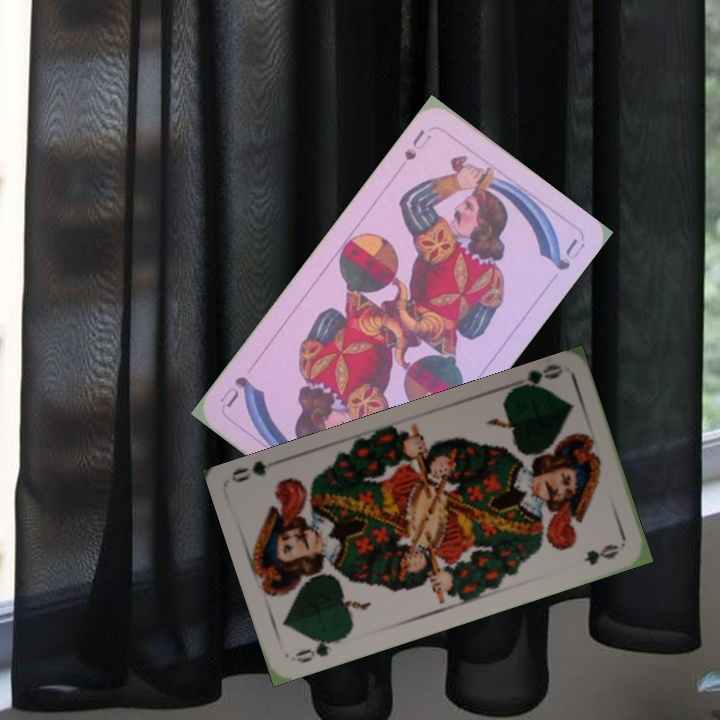GO: (507, 360, 564, 394), (291, 633, 346, 666)
SU: (400, 125, 434, 164)
